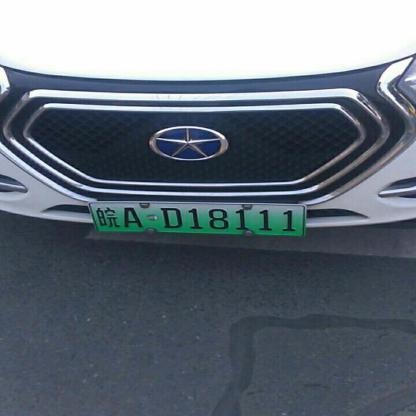lp: (90, 203, 304, 236)
